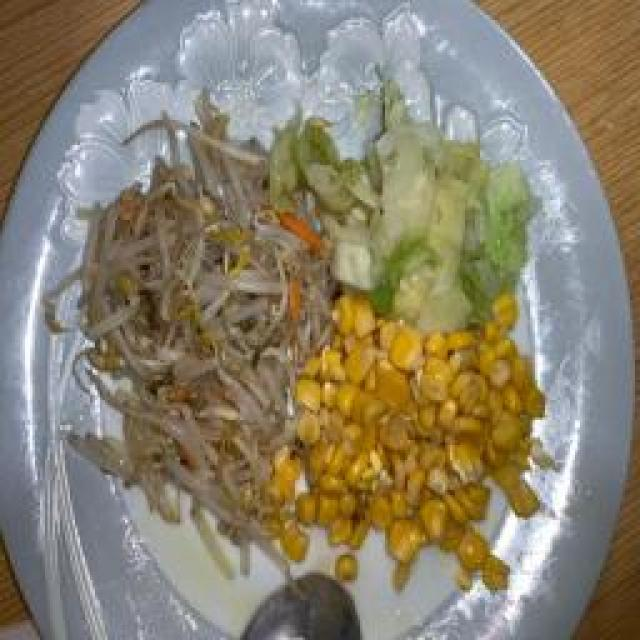Wet Waste: (87, 153, 295, 535), (315, 127, 530, 315)
